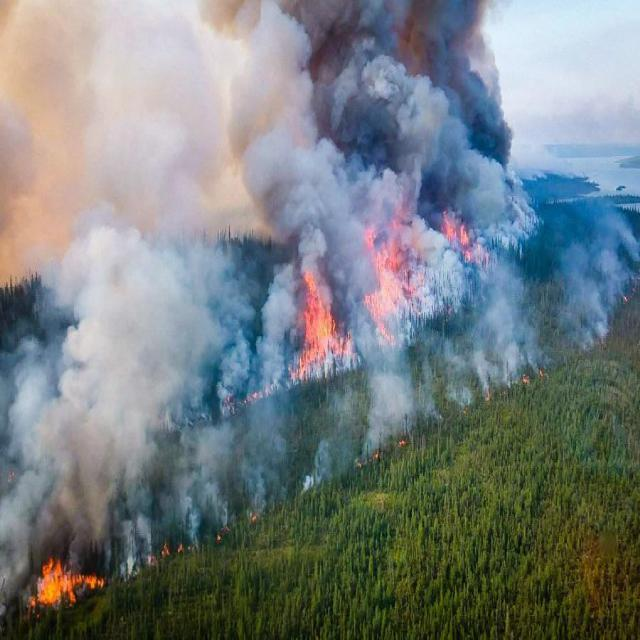Fire: (300, 211, 472, 372), (146, 506, 266, 568), (27, 559, 105, 607), (472, 363, 546, 403), (351, 438, 412, 472)
